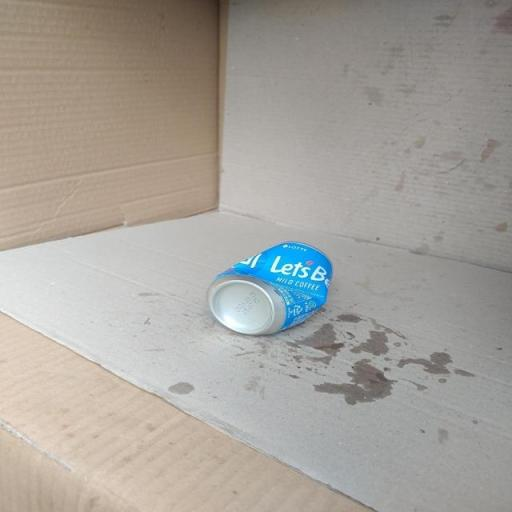metal: (197, 232, 345, 354)
